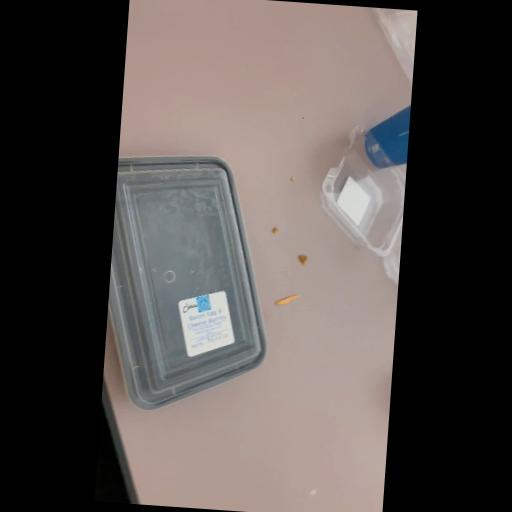rigid_plastic_container: (102, 156, 278, 409)
